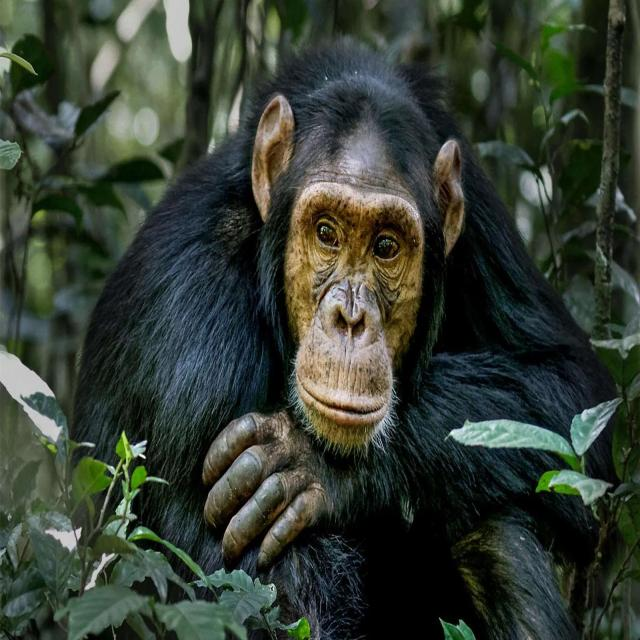Chimpanzee: (66, 32, 593, 640)
